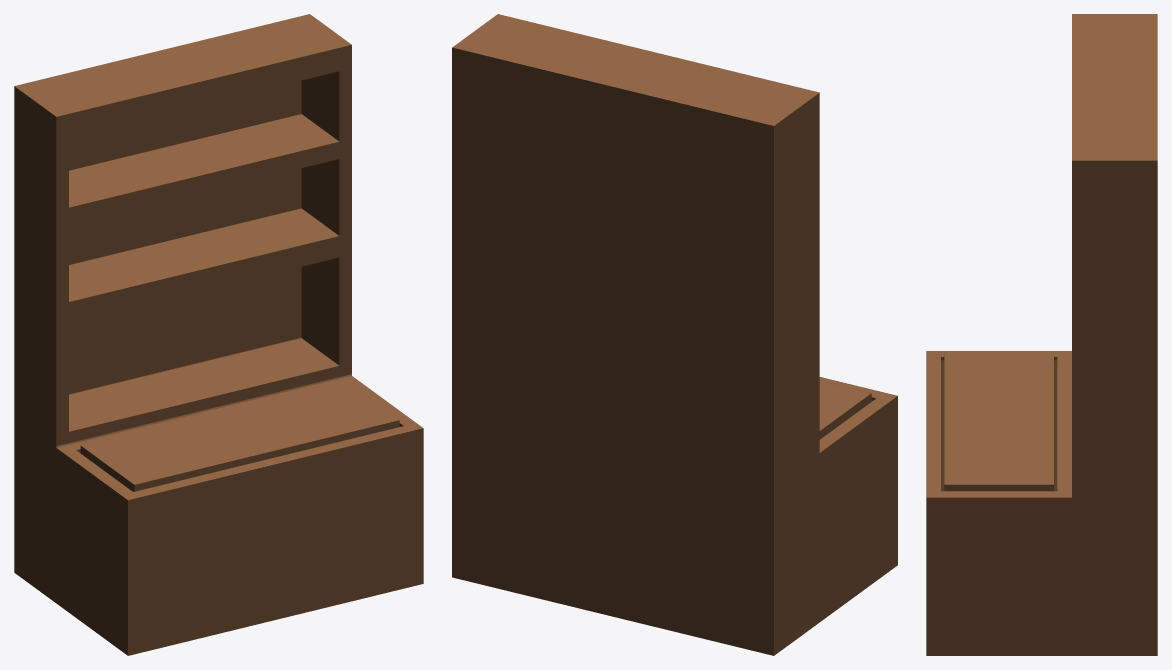
The model's file is Kitchen_Working_Table_Unwrapped.FBX.
The picture shows the model from 3 angles, left to right: view 1: azimuth 30°, elevation 25°; view 2: azimuth 150°, elevation 25°; view 3: azimuth 270°, elevation 25°; orthographic projection. The views are drawn at different scales.
Parts seen in each view (by area): view 1: Kitchen_Working_Table_Shelf_1; view 2: Kitchen_Working_Table_Shelf_1; view 3: Kitchen_Working_Table_Shelf_1.
Boxes of the visible parts, bbox=[...] form: Kitchen_Working_Table_Shelf_1: bbox=[14, 14, 423, 655]; Kitchen_Working_Table_Shelf_1: bbox=[452, 14, 897, 655]; Kitchen_Working_Table_Shelf_1: bbox=[926, 14, 1157, 655].
Size of the model in its own units: 1.5 by 2.36 by 1.
